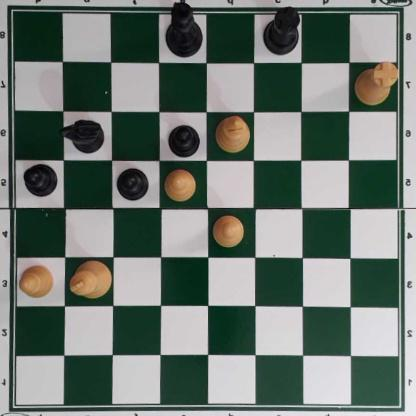black-king: (164, 1, 204, 59)
black-knight: (64, 118, 102, 154)
black-pawn: (24, 162, 58, 197), (168, 121, 202, 156), (117, 166, 149, 201)
black-rook: (262, 8, 303, 55)
white-bishop: (215, 111, 251, 154)
white-king: (70, 258, 113, 299)
white-pawn: (19, 263, 56, 299), (165, 167, 198, 202), (213, 214, 246, 246)
white-rook: (353, 63, 400, 106)
